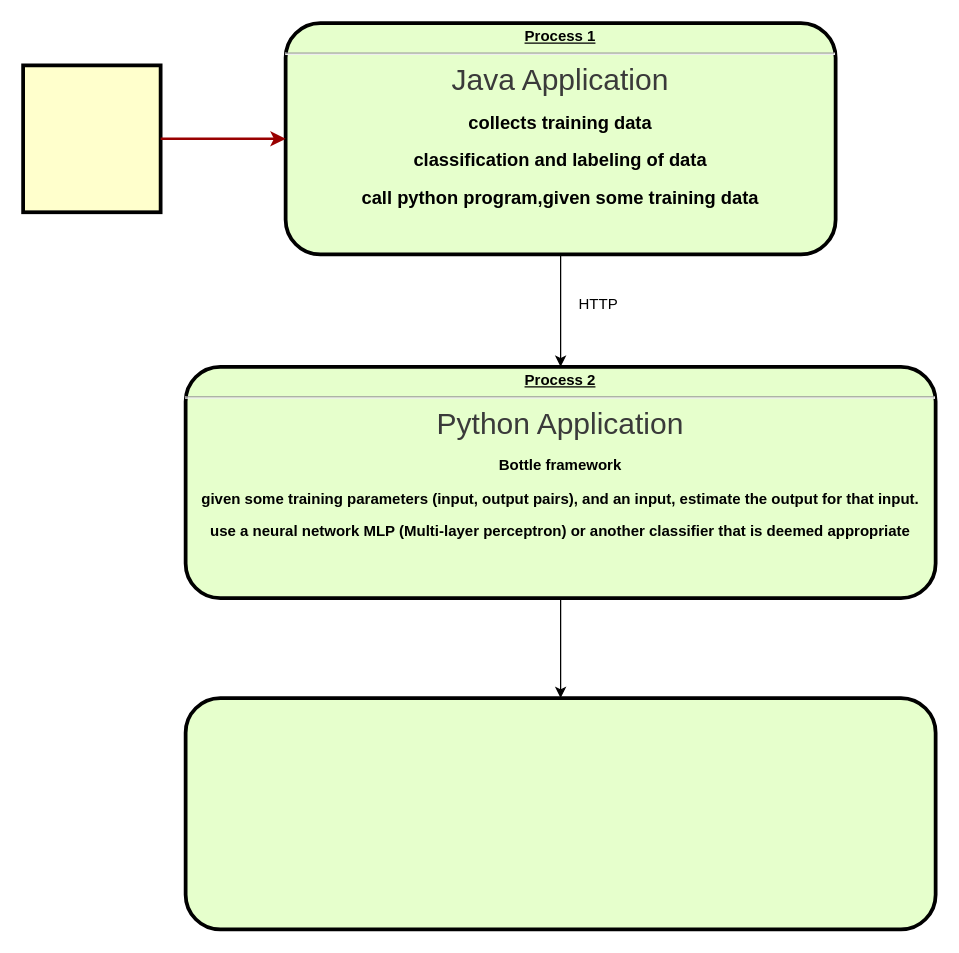
The diagram is 959 pixels wide and 953 high, and some of its shapes have lost their labels. Here are the shapes that lost their labels. From the top down, the centre of each, then its label:
(91,138): Mock Data(mongo or just json file)
(560,813): Process 3 Web Application React or Vue display the data and output
